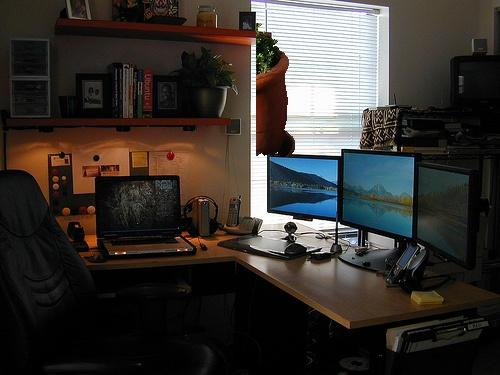tampered: (257, 24, 295, 157)
